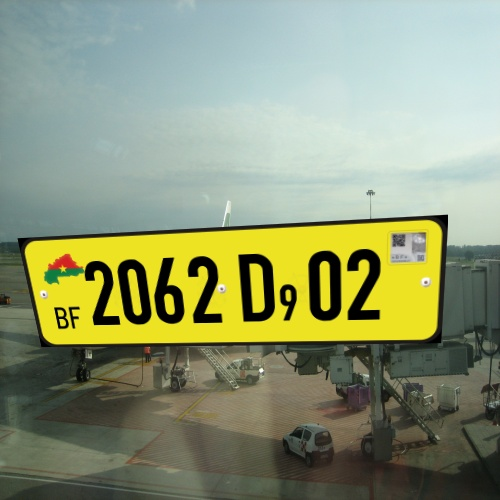plate: (14, 209, 457, 361)
